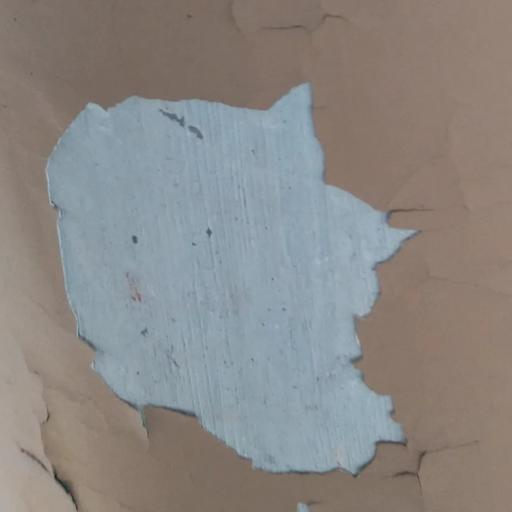peeling: (9, 74, 484, 512)
